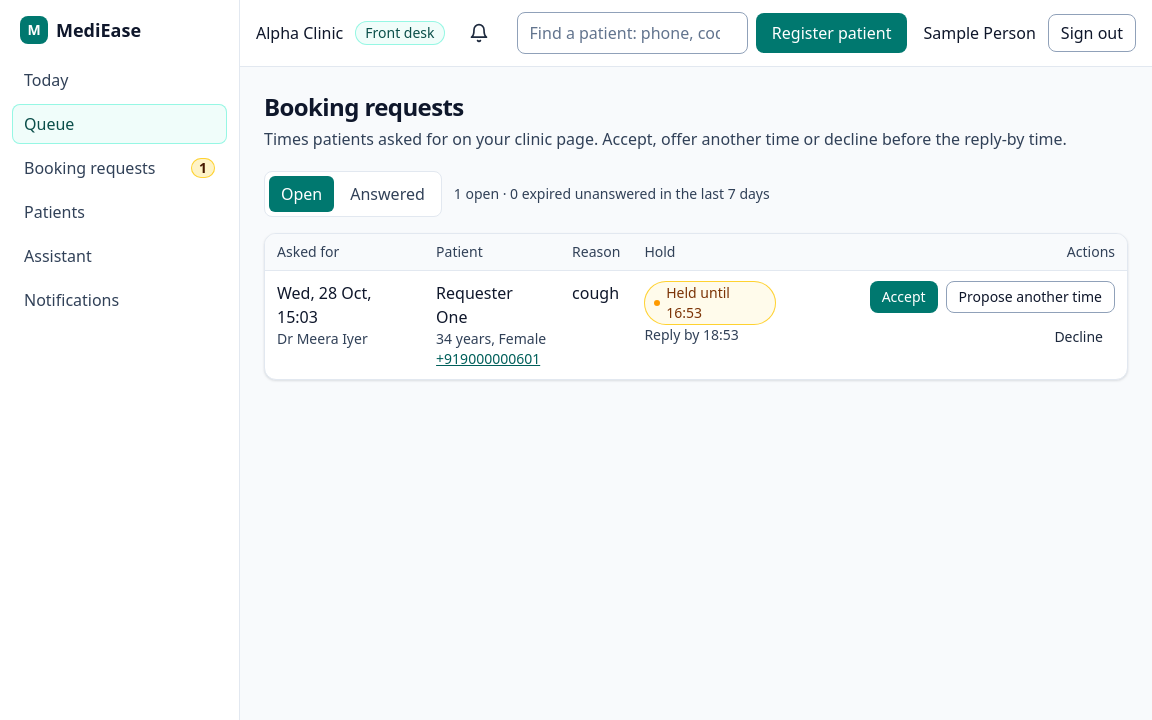
Test: answering requests (M6b-P5, R34, R36, R39) › decline: a reason the patient sees and a staff-only note
Click the button with aria-label "Decline Requester One's request" at x=1079, y=337, box x1=1042 y1=321 x2=1115 y2=353
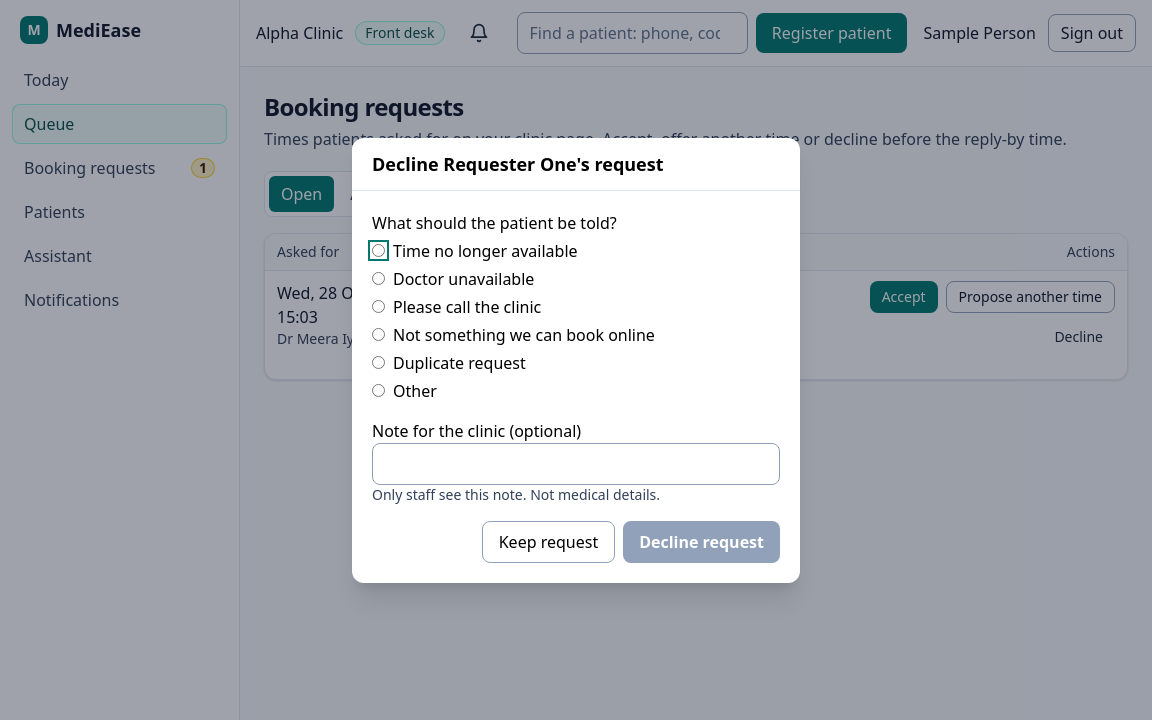
Click the radio button labelled "Please call the clinic" at x=378, y=306, box x1=372 y1=300 x2=385 y2=313
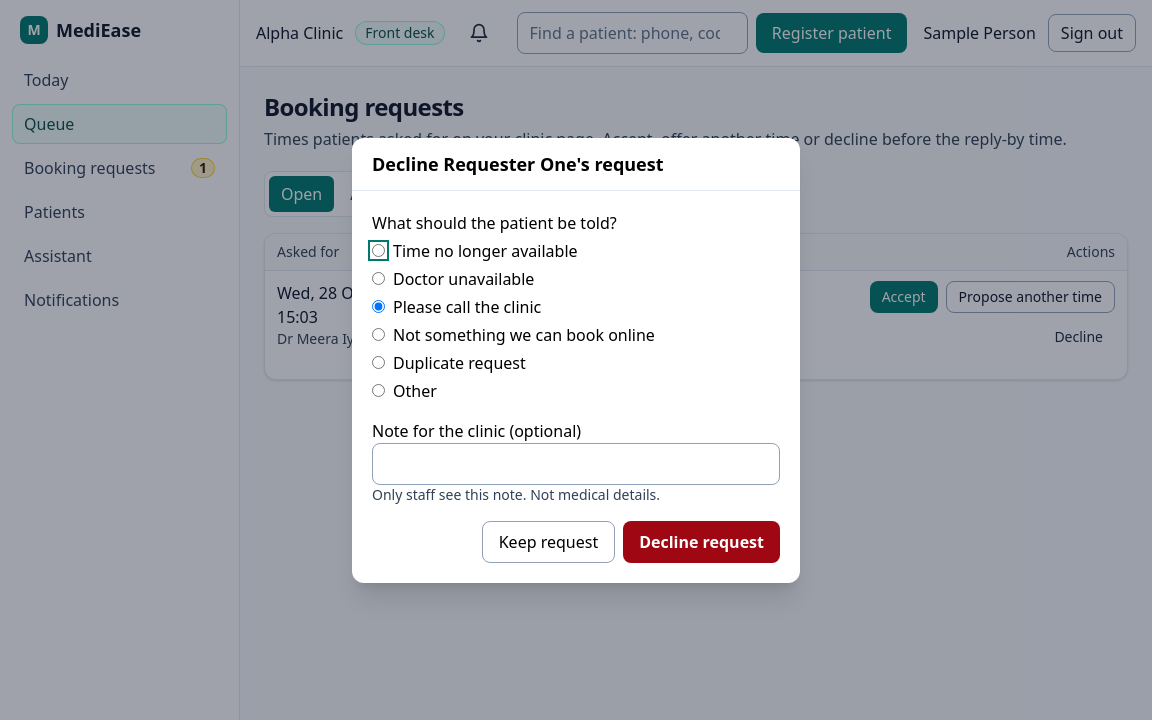
Type "  called twice  " into the field labelled "Note for the clinic (optional)" at x=576, y=464, box x1=372 y1=442 x2=780 y2=484
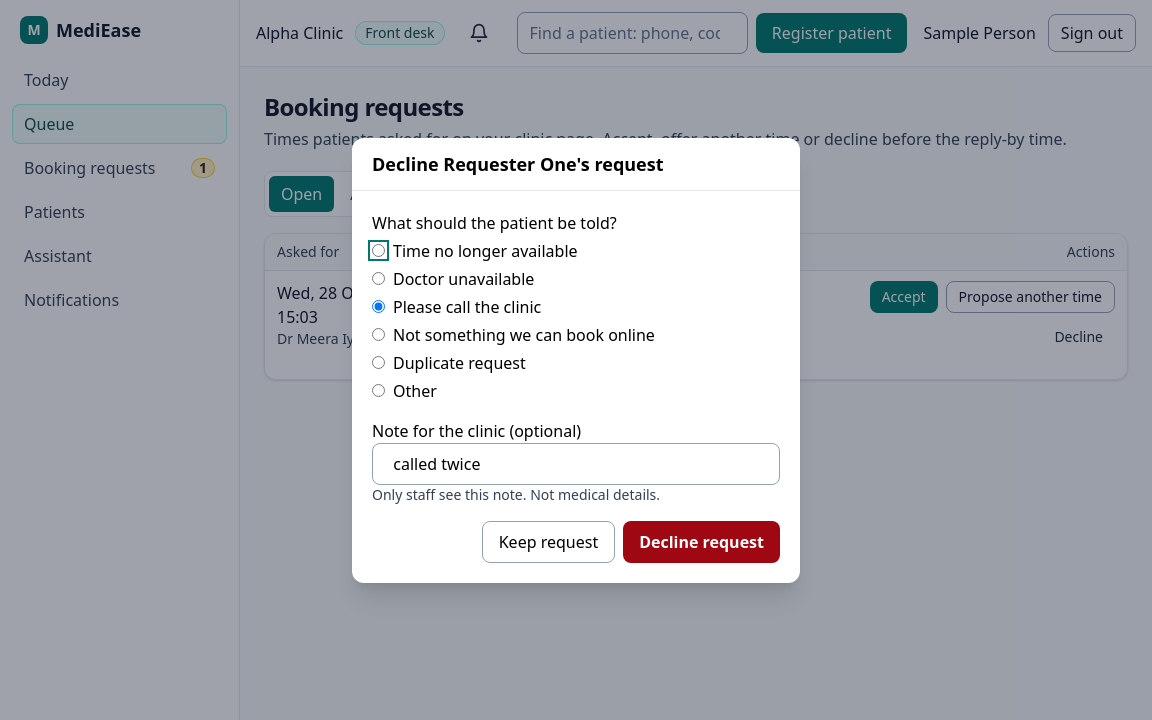
Click the button "Decline request" at x=702, y=542, box x1=623 y1=520 x2=780 y2=562
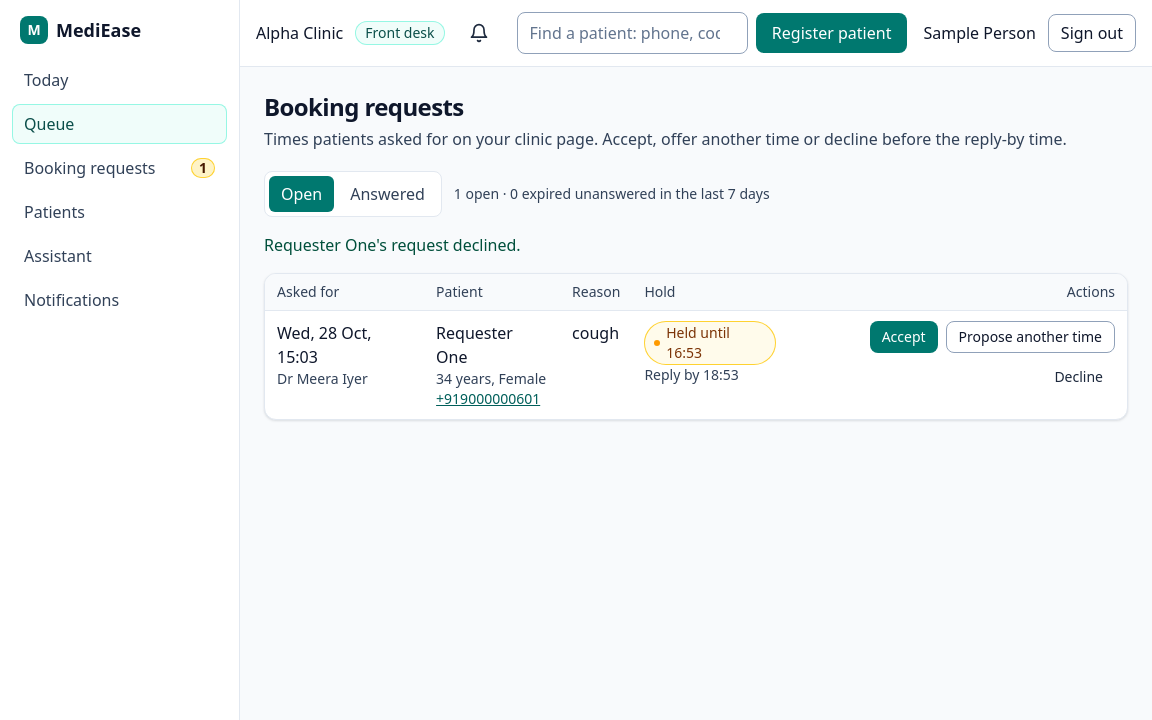
Expected: the text "Requester One's request declined." is shown, x1=264 y1=234 x2=521 y2=256
